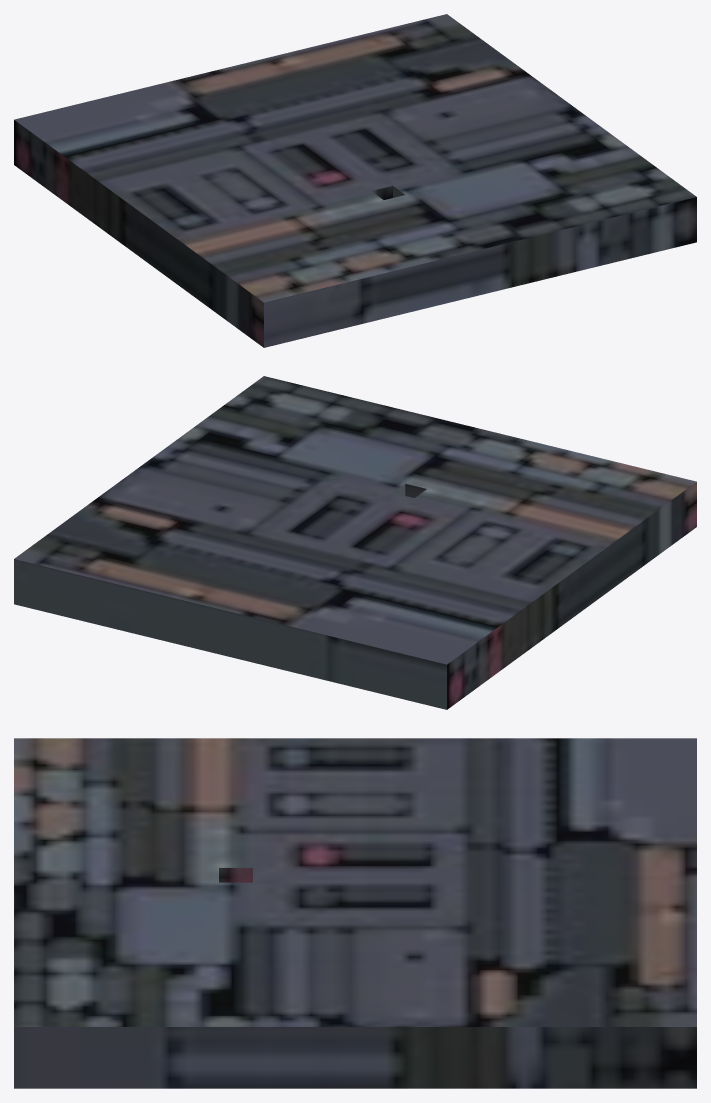
Rendered from Sidewalk_Chunk_2.glb.
3 views of the same model, one above another, from view 1: azimuth 30°, elevation 25°; view 2: azimuth 150°, elevation 25°; view 3: azimuth 270°, elevation 25° (orthographic). The views are drawn at different scales.
Parts seen in each view (by area): view 1: Sidewalk_Chunk_2; view 2: Sidewalk_Chunk_2; view 3: Sidewalk_Chunk_2.
Boxes of the visible parts, x1,y1,x2,y2 form: Sidewalk_Chunk_2: (14, 14, 696, 347); Sidewalk_Chunk_2: (14, 376, 696, 709); Sidewalk_Chunk_2: (14, 738, 696, 1088).
Bounding box in the file's own units: 2 × 0.2001 × 2.
1 material, 1 textured.
